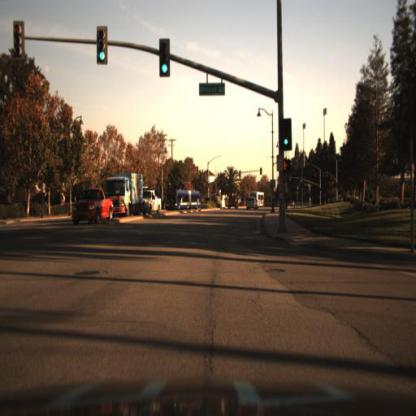car: (71, 188, 115, 226), (142, 186, 164, 217), (252, 189, 273, 208), (226, 193, 242, 214), (246, 197, 262, 212), (247, 193, 258, 211)
trafficLight-Green: (280, 115, 293, 152), (161, 39, 172, 77), (98, 26, 108, 66)
truck: (107, 170, 144, 220), (174, 188, 203, 213)
